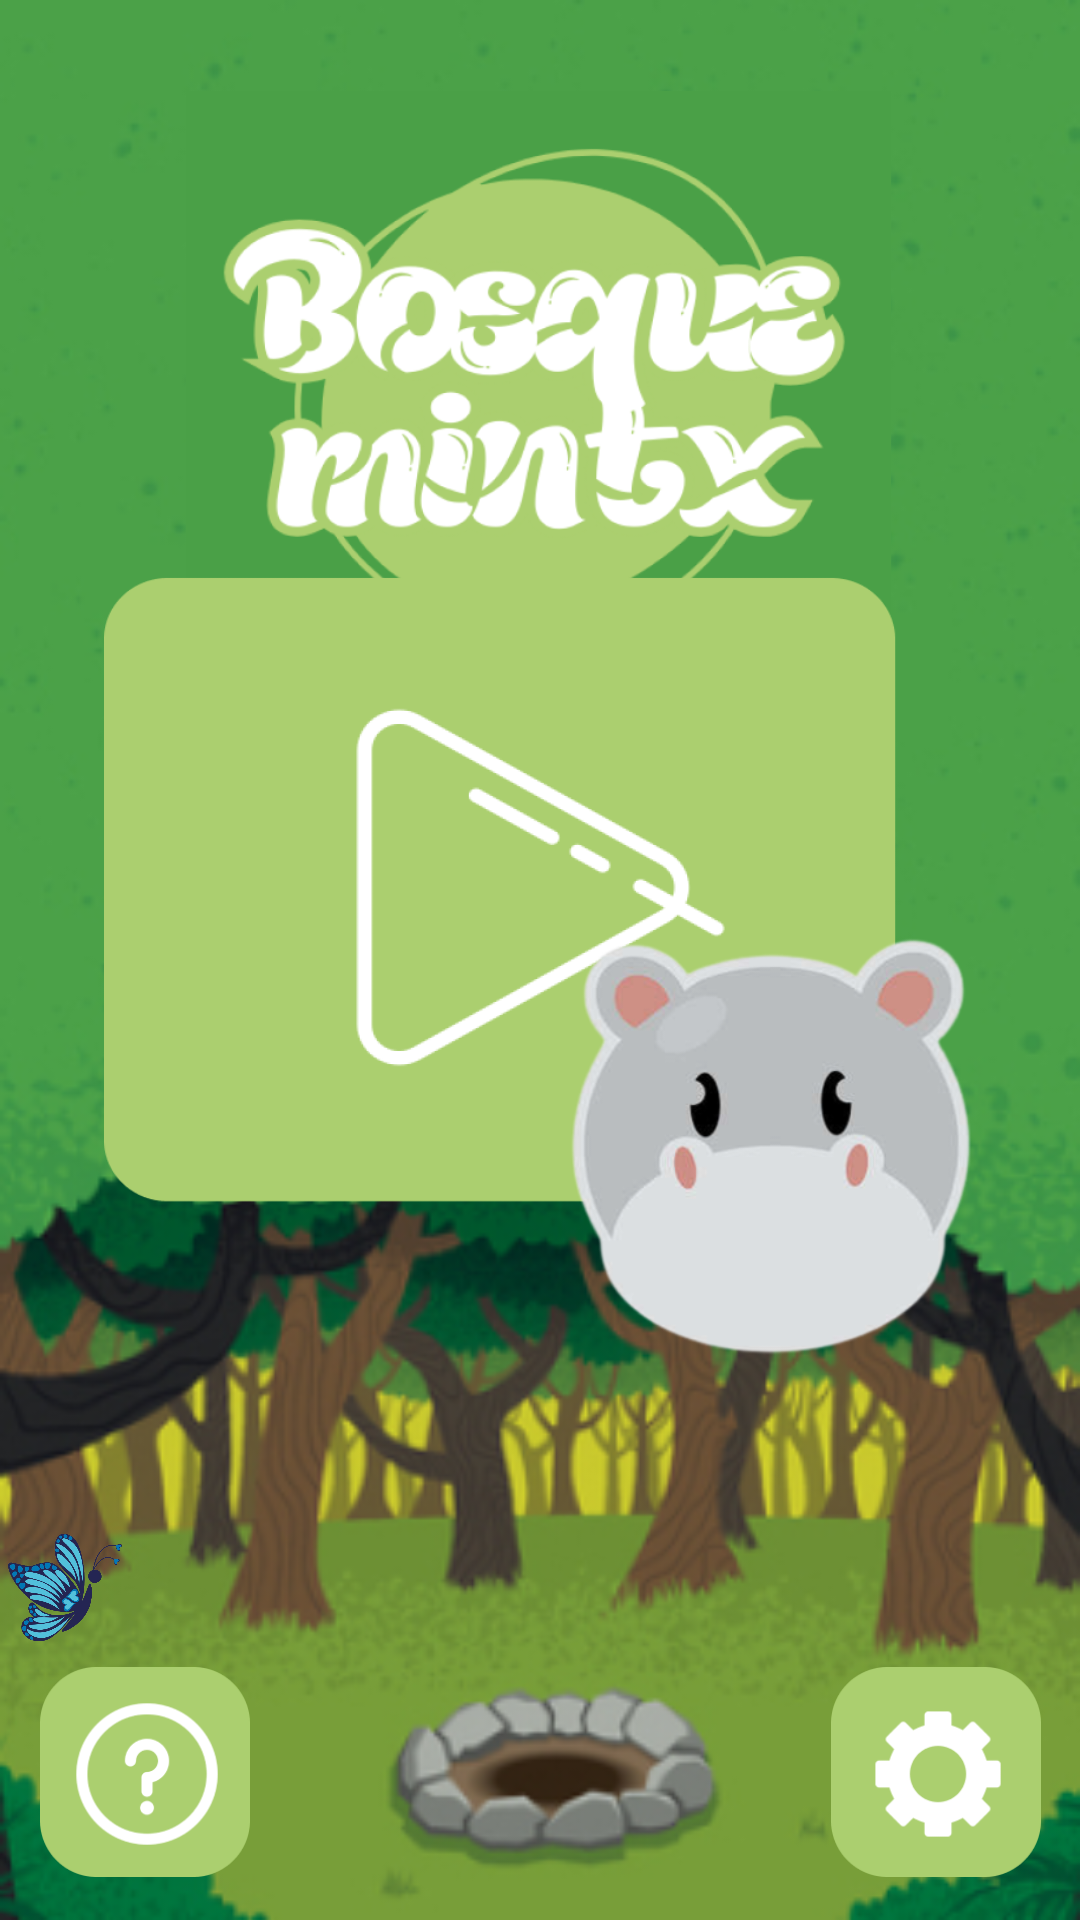

Where icons sit on this 1080×1920 app screen, as Rect(x1, y1, x2, y2):
mariposa: Rect(8, 1514, 122, 1641)
